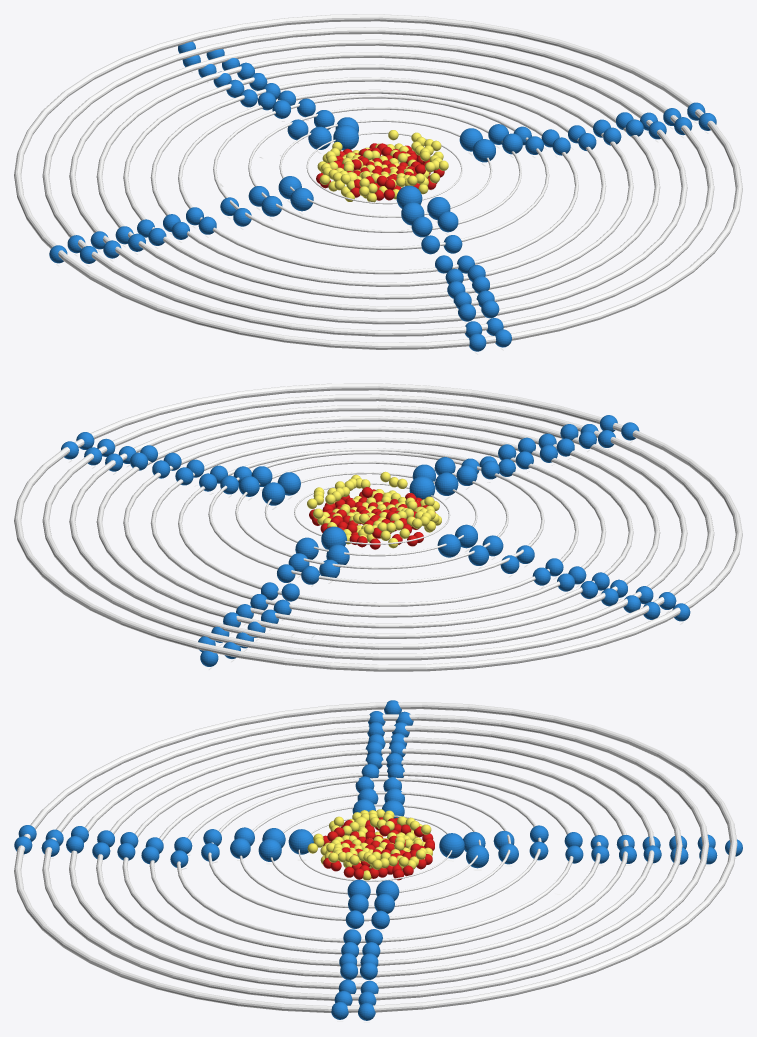
3 renders of one model, top to bottom at view 1: azimuth 30°, elevation 25°; view 2: azimuth 150°, elevation 25°; view 3: azimuth 270°, elevation 25°, orthographic.
Visible parts, largest first — view 1: Torus.011, Torus.010, Torus.009, Torus.008, Torus.007, Torus.006, Torus.005, Torus.004, Torus.003, Torus.002, Torus.001; view 2: Torus.011, Torus.010, Torus.009, Torus.008, Torus.007, Torus.006, Torus.005, Torus.004, Torus.003, Torus.002, Torus.001; view 3: Torus.011, Torus.010, Torus.009, Torus.008, Torus.007, Torus.006, Torus.005, Torus.004, Torus.003, Torus.002.
Part boxes in pixels (x1=…): Torus.011: x1=14, y1=14, x2=742, y2=349; Torus.010: x1=42, y1=27, x2=714, y2=336; Torus.009: x1=69, y1=39, x2=687, y2=324; Torus.008: x1=96, y1=52, x2=660, y2=311; Torus.007: x1=123, y1=64, x2=633, y2=299; Torus.006: x1=150, y1=77, x2=606, y2=286; Torus.005: x1=178, y1=89, x2=578, y2=274; Torus.004: x1=213, y1=95, x2=549, y2=249; Torus.003: x1=248, y1=107, x2=521, y2=232; Torus.002: x1=279, y1=119, x2=492, y2=217; Torus.001: x1=306, y1=132, x2=462, y2=204; Torus.011: x1=14, y1=383, x2=742, y2=671; Torus.010: x1=42, y1=394, x2=714, y2=660; Torus.009: x1=69, y1=405, x2=687, y2=649; Torus.008: x1=96, y1=416, x2=660, y2=638; Torus.007: x1=123, y1=426, x2=633, y2=628; Torus.006: x1=150, y1=437, x2=606, y2=617; Torus.005: x1=178, y1=448, x2=578, y2=606; Torus.004: x1=208, y1=451, x2=544, y2=583; Torus.003: x1=235, y1=461, x2=508, y2=569; Torus.002: x1=264, y1=472, x2=477, y2=556; Torus.001: x1=294, y1=483, x2=450, y2=544; Torus.011: x1=14, y1=702, x2=737, y2=1012; Torus.010: x1=42, y1=714, x2=709, y2=1000; Torus.009: x1=69, y1=725, x2=682, y2=989; Torus.008: x1=96, y1=737, x2=655, y2=977; Torus.007: x1=122, y1=748, x2=628, y2=966; Torus.006: x1=149, y1=760, x2=601, y2=954; Torus.005: x1=176, y1=772, x2=573, y2=942; Torus.004: x1=208, y1=777, x2=541, y2=921; Torus.003: x1=239, y1=791, x2=510, y2=908; Torus.002: x1=270, y1=804, x2=481, y2=894.
Bounding box in the file's own units: 28.44 × 2.85 × 28.24.
